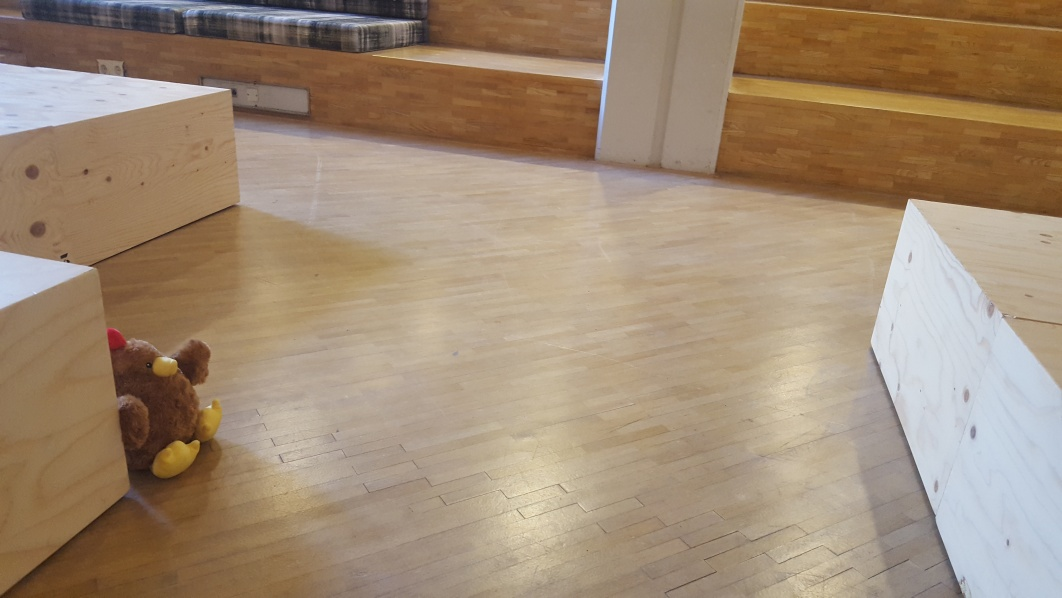chicken: (104, 324, 229, 480)
